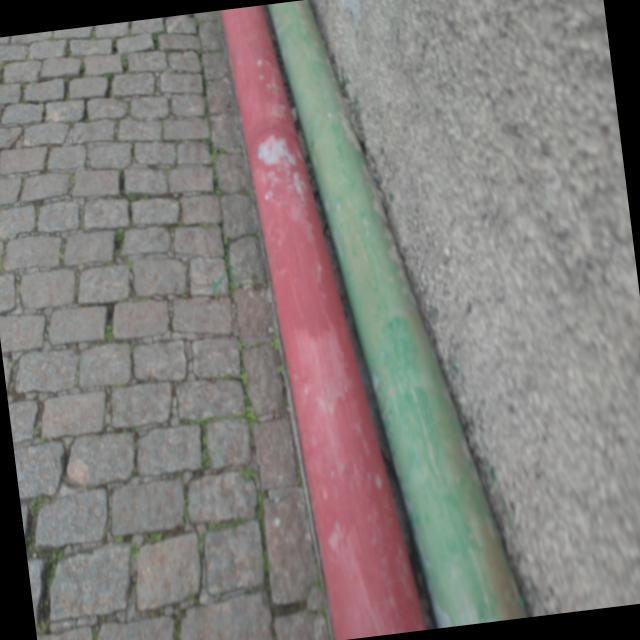gas: (270, 0, 532, 627), (222, 5, 426, 635)
